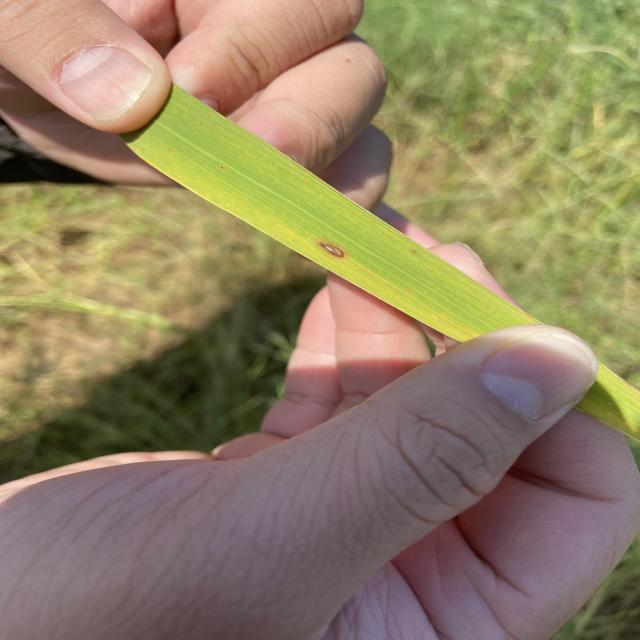Dom nau: (319, 242, 344, 257)
